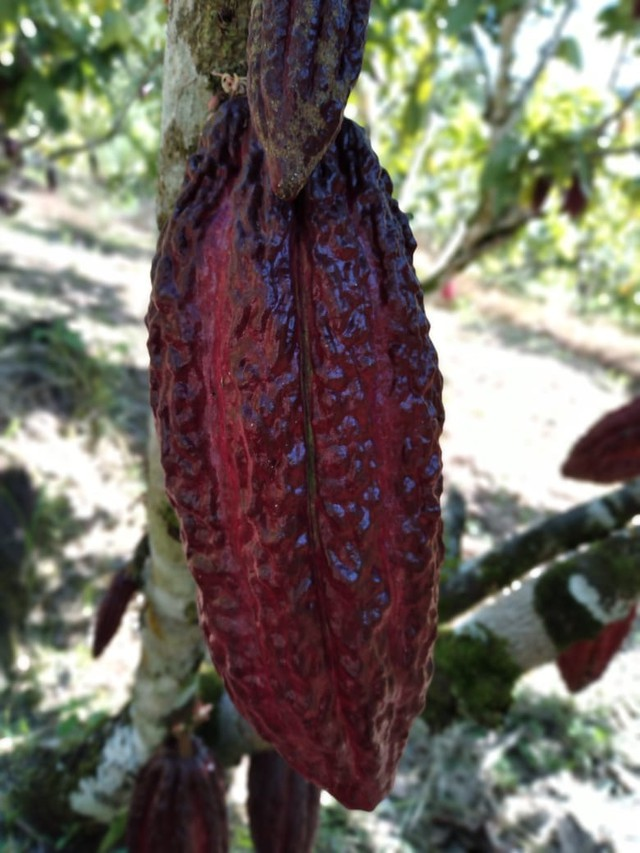Health: (126, 63, 459, 821)
